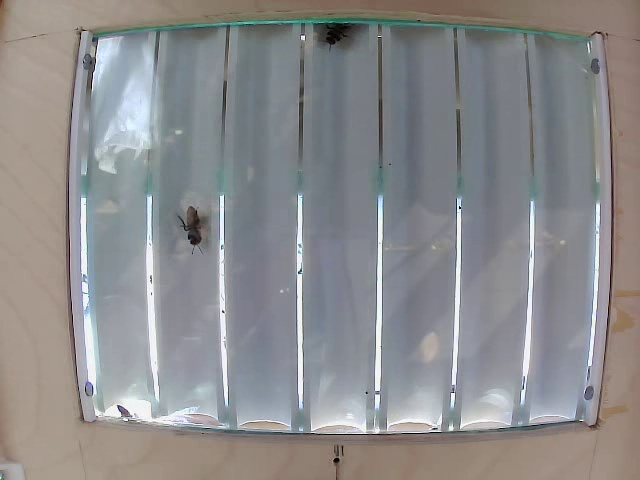bee: (173, 204, 210, 253), (319, 22, 352, 52)
